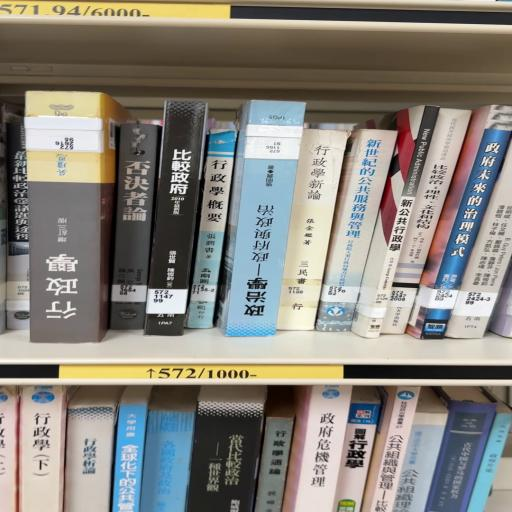reverse: (25, 92, 132, 344), (217, 101, 306, 337)
